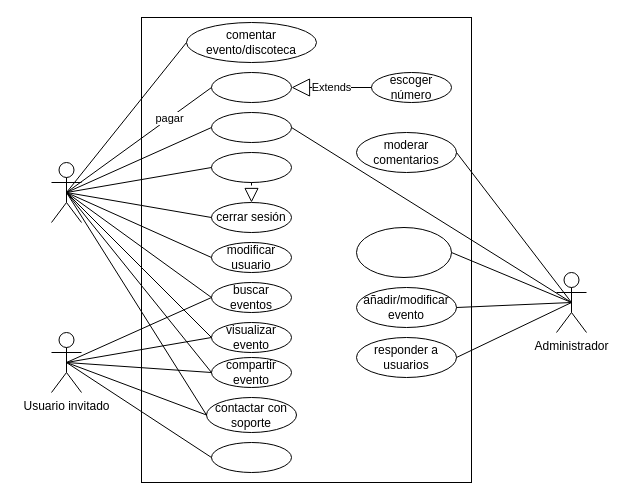
Image size: 625x500. Some labels were removed from this diagram. The centre of each missing label's shape, as x and y in pixels:
"añadir/modificar discoteca" belongs at point (404, 252).
"cancelar entrada" belongs at point (251, 127).
"iniciar sesión" belongs at point (251, 167).
"registrarse" belongs at point (251, 457).
"reservar entrada" belongs at point (251, 87).
"Usuario registrado" belongs at point (66, 192).
